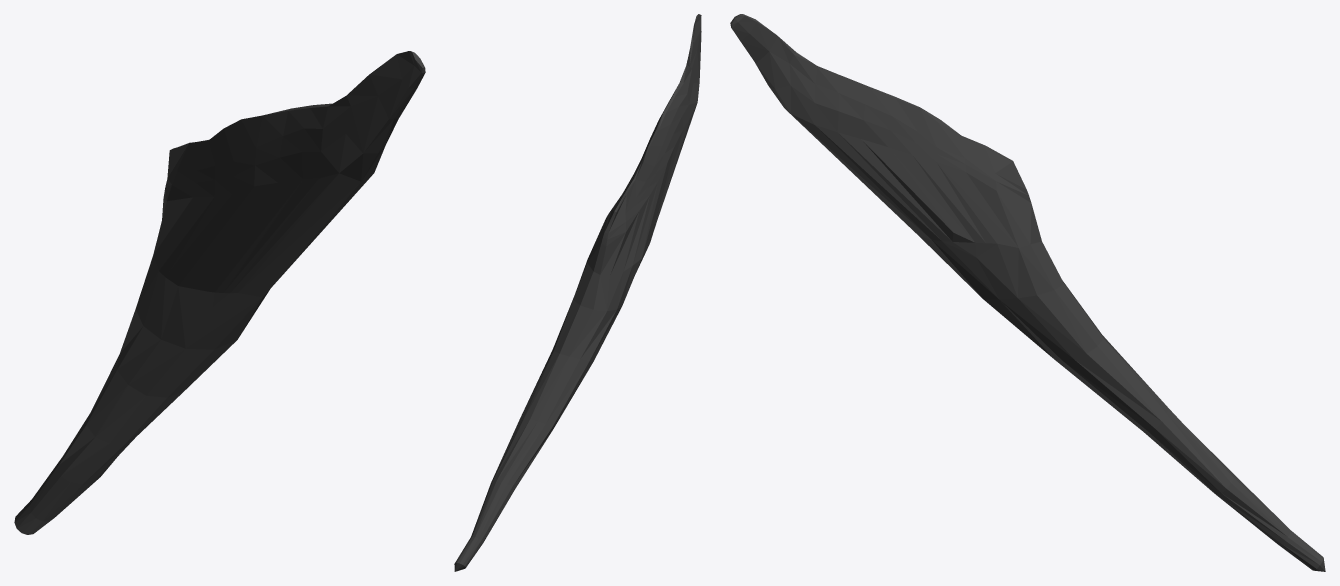
File: Iliacus.glb
3 renders of one model, left to right at view 1: azimuth 30°, elevation 25°; view 2: azimuth 150°, elevation 25°; view 3: azimuth 270°, elevation 25°, orthographic. The views are drawn at different scales.
Visible parts, largest first — view 1: Iliacus; view 2: Iliacus; view 3: Iliacus.
Part boxes in pixels (box(x1,y1,x2,y2)): Iliacus: box(14, 51, 425, 534); Iliacus: box(454, 14, 701, 571); Iliacus: box(730, 14, 1325, 571).
Size of the model in its own units: 0.4079 by 2.7 by 2.69.
Materials: 1 (1 with a texture image).
